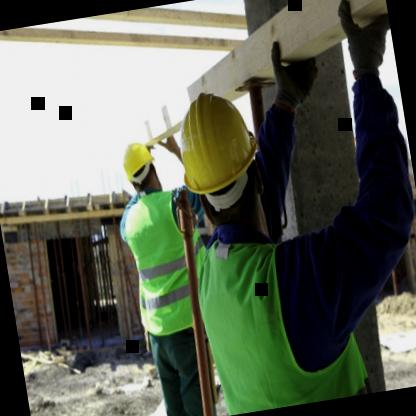helmet: (160, 76, 275, 226), (111, 128, 164, 202)
